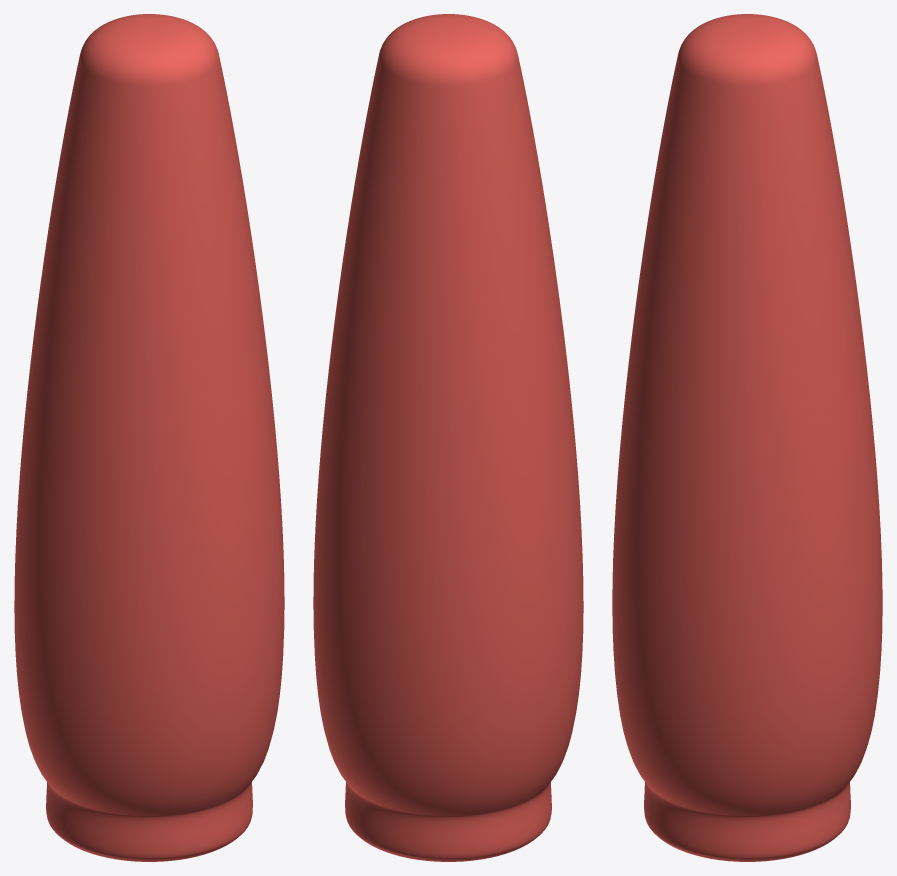
File: mannequin.glb
The picture shows the model from 3 angles, left to right: view 1: azimuth 30°, elevation 25°; view 2: azimuth 150°, elevation 25°; view 3: azimuth 270°, elevation 25°; orthographic projection.
Visible parts, largest first — view 1: InflatableMannequin; view 2: InflatableMannequin; view 3: InflatableMannequin.
Part boxes in pixels (bbox=[...]): InflatableMannequin: bbox=[14, 14, 284, 861]; InflatableMannequin: bbox=[313, 14, 583, 861]; InflatableMannequin: bbox=[612, 14, 882, 861].
Size of the model in its own units: 0.5359 by 1.75 by 0.5359.
